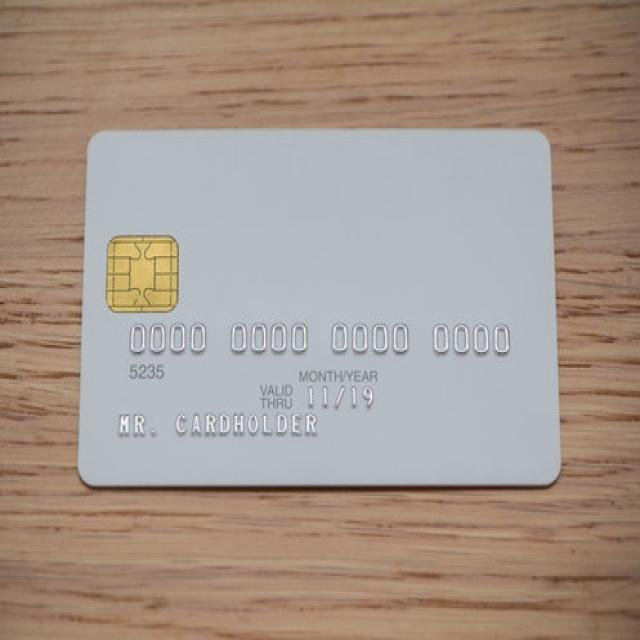payment_card: (77, 126, 561, 489)
